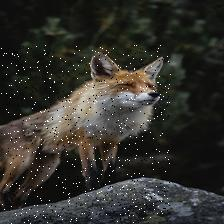fox: (1, 45, 171, 224)
